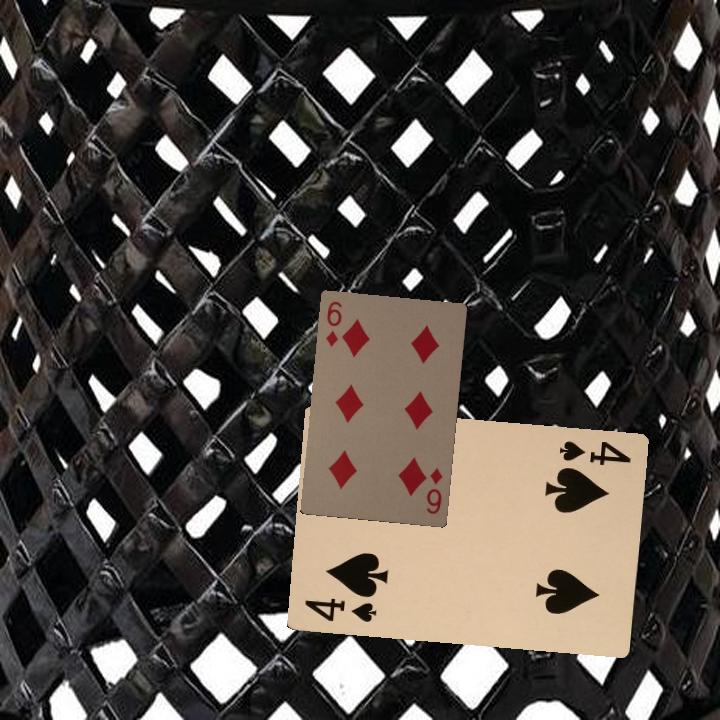4s: (301, 593, 380, 625), (555, 436, 633, 468)
6d: (422, 464, 445, 517), (322, 297, 344, 349)
